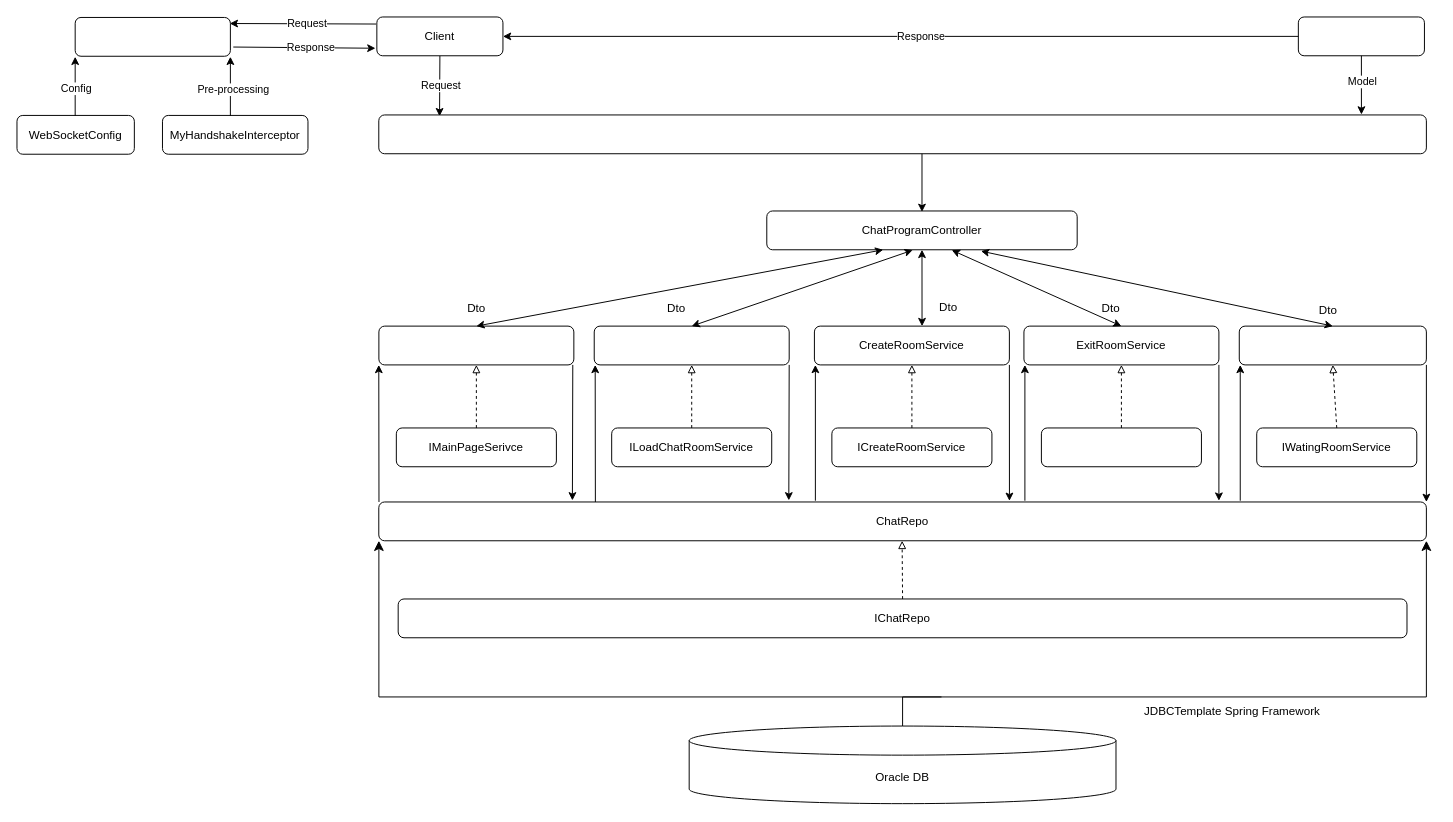
Some shapes in this 1453 by 822 pixel diagram are drawn without their labels. The shapes that lost their labels are listed below. From the top down, each one's box as (x1, y1, x2, y2) in pixels, then its label:
(74, 16, 230, 56): MyWebSocketHandler
(1297, 16, 1424, 56): View (JSP)
(378, 114, 1426, 154): Dispatcher Servlet
(378, 325, 574, 365): MainPageService
(593, 325, 789, 365): LoadChatRoomService
(1238, 325, 1426, 365): WatingRoomService
(1040, 427, 1201, 467): IExitRoomService
